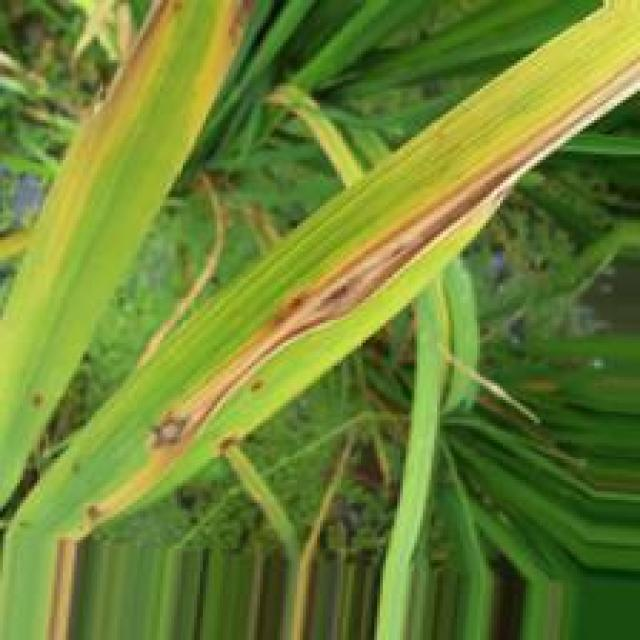Leaf_Scald: (140, 58, 640, 479), (84, 0, 180, 143)
